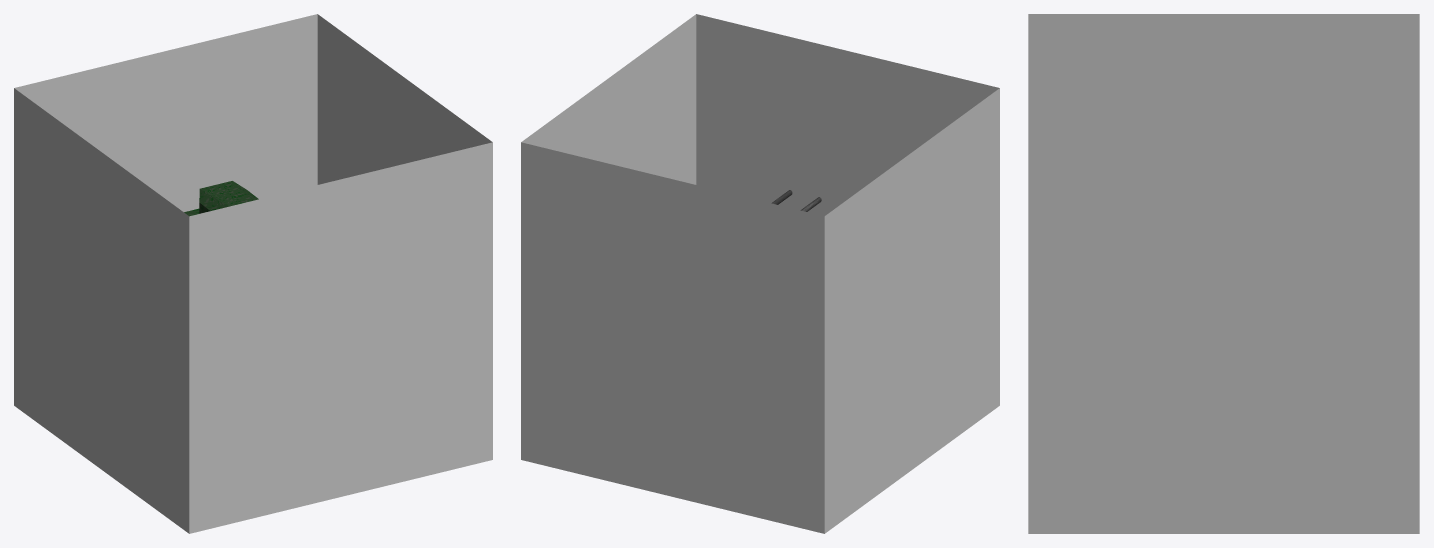
Rendered from BSP_Scene.fbx.
3 views of the same model, side by side, from view 1: azimuth 30°, elevation 25°; view 2: azimuth 150°, elevation 25°; view 3: azimuth 270°, elevation 25° (orthographic). The views are drawn at different scales.
Visible parts, largest first — view 1: Plane.002, Plane, Plane.001, Plane.003, Turret; view 2: Plane.001, Plane, Plane.002, Plane.003; view 3: Plane.003, Plane.
Boxes of the visible parts, x1,y1,x2,y2 form: Plane.002: (189, 142, 492, 533); Plane: (14, 88, 189, 533); Plane.001: (14, 14, 317, 211); Plane.003: (317, 14, 492, 184); Turret: (199, 181, 258, 213); Plane.001: (521, 142, 824, 533); Plane: (824, 88, 999, 533); Plane.002: (696, 14, 999, 216); Plane.003: (521, 14, 696, 184); Plane.003: (1028, 179, 1419, 533); Plane: (1028, 14, 1419, 179).
Bounding box in the file's own units: 20 × 20 × 20.
Materials: 2 (1 with a texture image).
